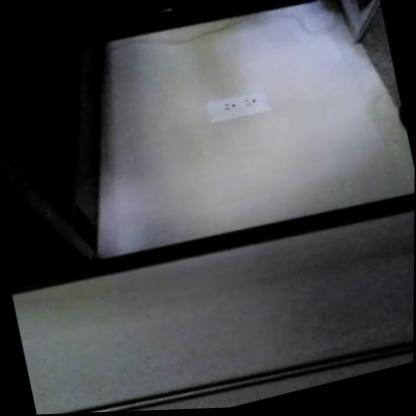OUTLET: (204, 86, 268, 123)
